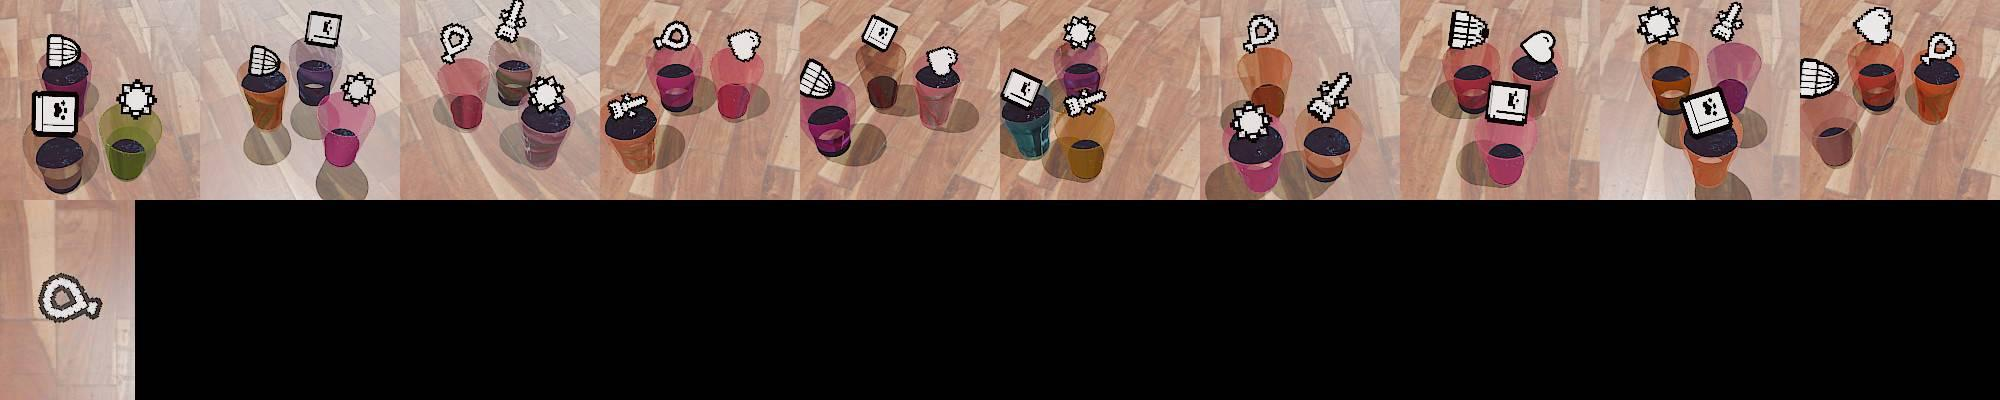icon: (37, 271, 103, 322), (1679, 85, 1733, 139), (1305, 71, 1353, 124), (1485, 79, 1533, 126), (32, 90, 80, 136), (1001, 68, 1046, 112), (1635, 5, 1681, 46), (524, 74, 569, 115), (115, 79, 158, 120), (1230, 101, 1273, 140), (1798, 57, 1839, 98), (1852, 6, 1894, 46), (1449, 9, 1489, 51), (1241, 13, 1281, 54), (860, 14, 899, 54), (305, 10, 342, 50), (798, 59, 835, 98), (1710, 1, 1745, 43), (495, 0, 527, 43), (1518, 29, 1556, 65), (439, 22, 472, 62), (606, 92, 649, 122), (341, 70, 376, 107), (653, 20, 694, 52), (1061, 15, 1097, 51), (46, 33, 82, 69), (726, 28, 761, 62), (922, 46, 959, 79), (1066, 88, 1106, 116), (247, 45, 281, 78), (1923, 31, 1957, 62)
